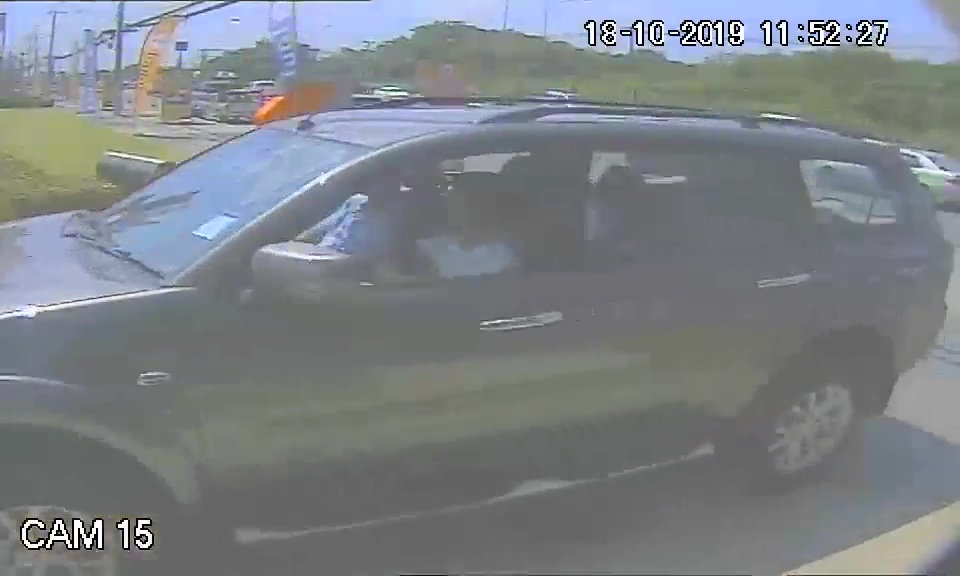pickup: (9, 95, 946, 523)
